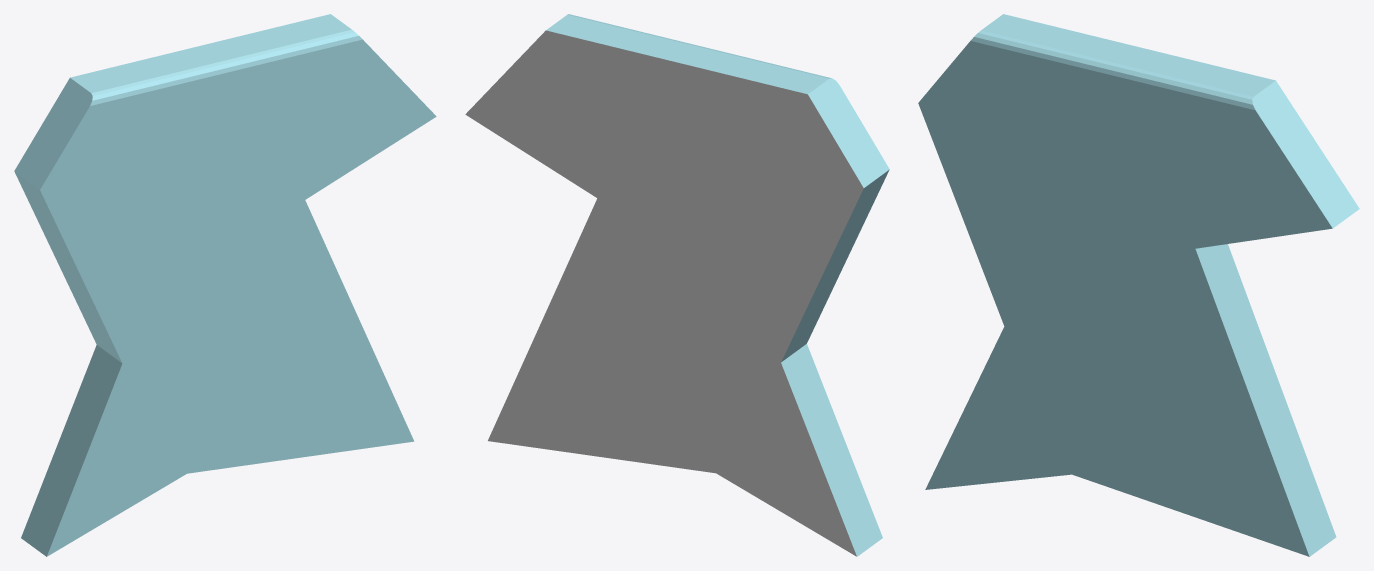
Rendered from chrome2.glb.
3 views of the same model, side by side, from view 1: azimuth 30°, elevation 25°; view 2: azimuth 150°, elevation 25°; view 3: azimuth 330°, elevation 25° (orthographic). The views are drawn at different scales.
Visible parts, largest first — view 1: Plane.003; view 2: Plane.003; view 3: Plane.003.
Part boxes in pixels (box(x1,y1,x2,y2)): Plane.003: box(14, 14, 436, 556); Plane.003: box(465, 14, 889, 556); Plane.003: box(918, 14, 1359, 556).
Size of the model in its own units: 44.36 by 47.92 by 5.
